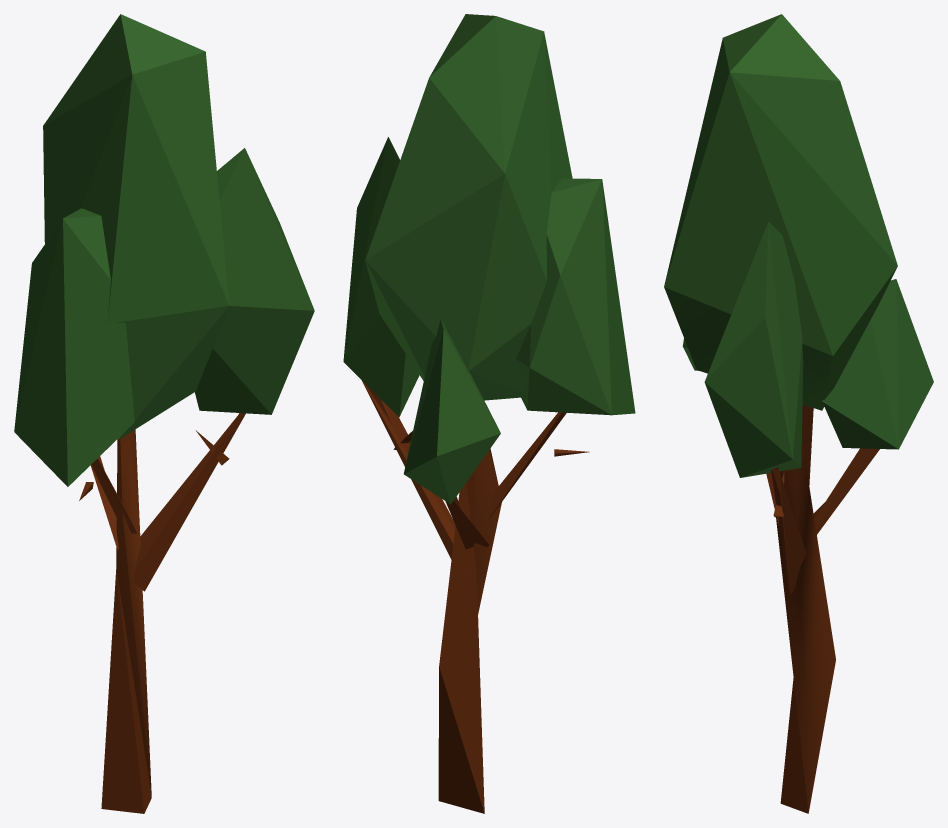
File: Tree5_med.glb
3 views of the same model, side by side, from view 1: azimuth 30°, elevation 25°; view 2: azimuth 150°, elevation 25°; view 3: azimuth 270°, elevation 25° (orthographic). The views are drawn at different scales.
Visible parts, largest first — view 1: Tree_temp_climate_005, Tree_temp_climate_005.001; view 2: Tree_temp_climate_005, Tree_temp_climate_005.001; view 3: Tree_temp_climate_005, Tree_temp_climate_005.001.
Boxes of the visible parts, left/top/right/bottom form: Tree_temp_climate_005: left=14, top=14, right=314, bottom=486; Tree_temp_climate_005.001: left=79, top=413, right=245, bottom=813; Tree_temp_climate_005: left=343, top=14, right=635, bottom=504; Tree_temp_climate_005.001: left=362, top=381, right=589, bottom=813; Tree_temp_climate_005: left=664, top=14, right=933, bottom=477; Tree_temp_climate_005.001: left=766, top=404, right=879, bottom=813.
Bounding box in the file's own units: 2.29 × 6.62 × 2.08.
